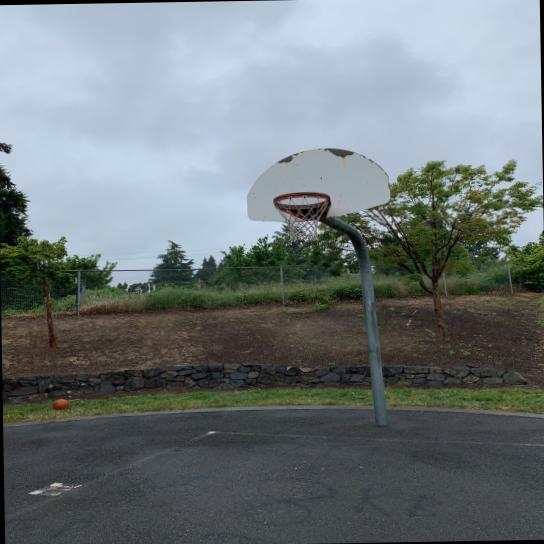basketball-hoop: (271, 190, 332, 243)
